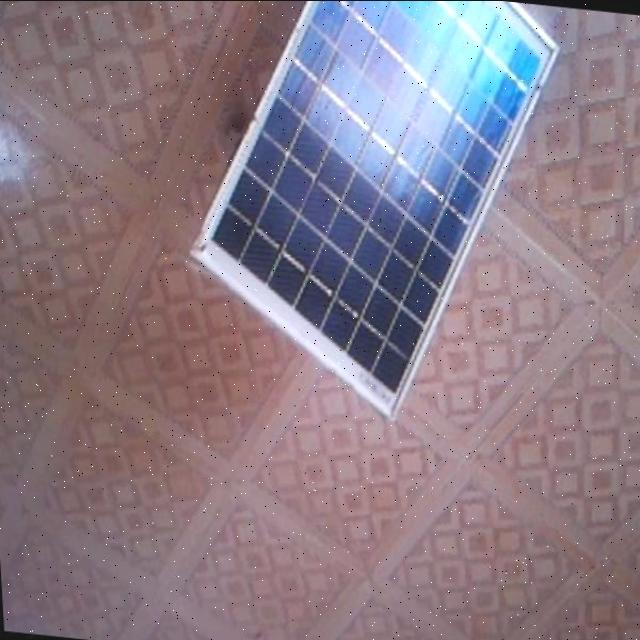Normal Solar Panel: (163, 0, 582, 432)
